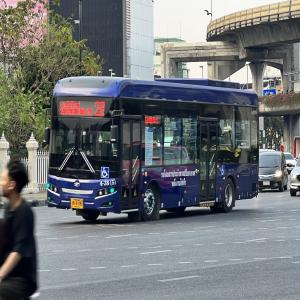Bus Line Number: (92, 99, 106, 118)
Bus Side Number: (98, 178, 117, 187)
Destination Sign: (58, 98, 94, 119)
TSB-Bus: (47, 76, 259, 222)
